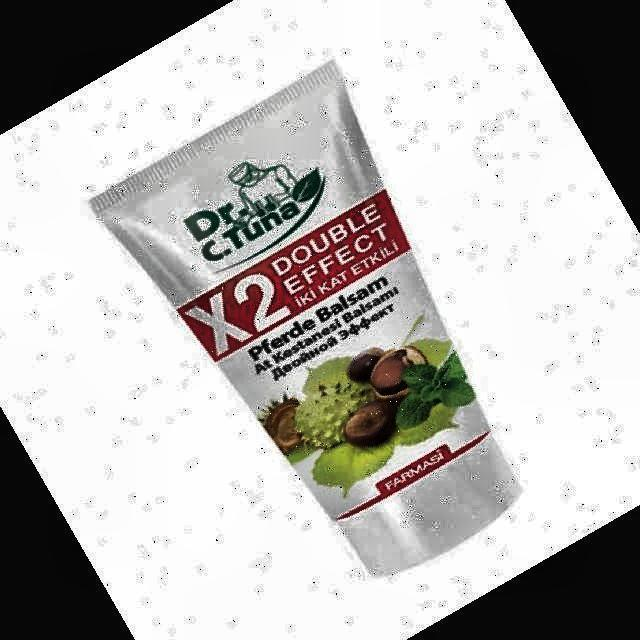plastic: (91, 61, 519, 573)
